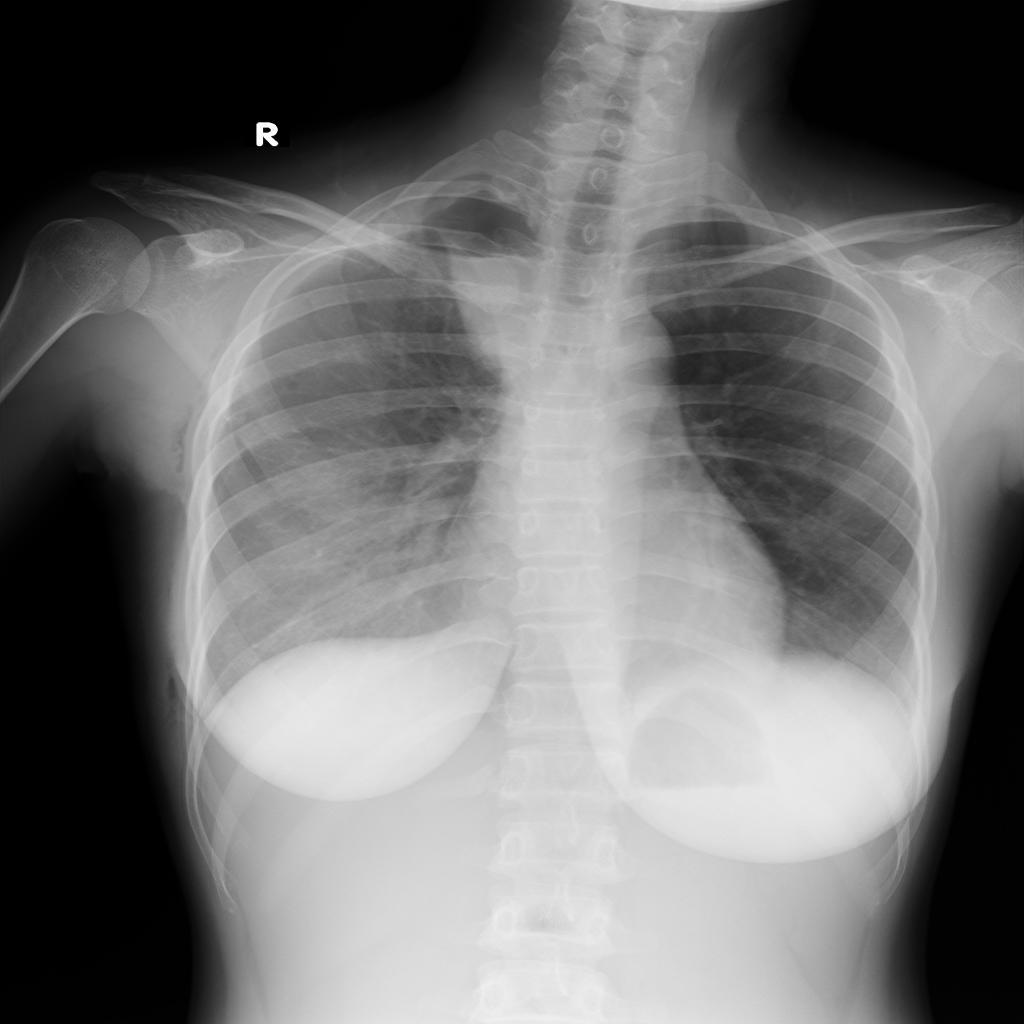Nodule: (437, 234, 549, 383)
